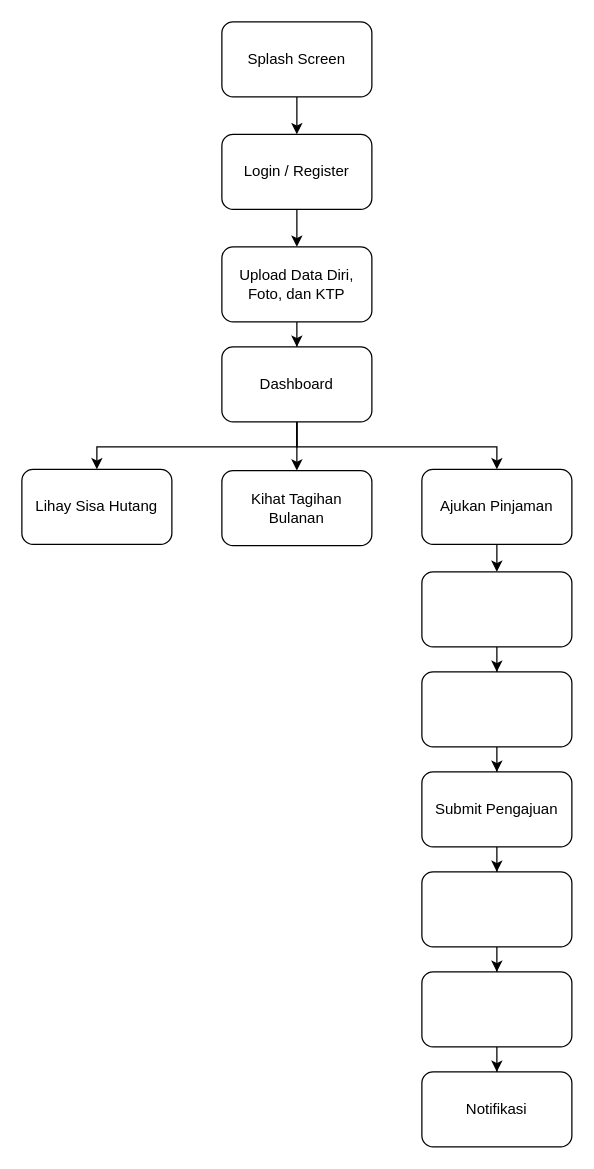
This 594x1169 diagram has some shape labels left out. The box of each missing label's shape, as (x1, y1, x2, y2) in pixels:
Approved / Rejected: (421, 971, 572, 1047)
Input Nominal dan Tenor: (421, 571, 572, 647)
Review Pengajuan: (421, 671, 572, 747)
Status Diproses: (421, 871, 572, 947)
